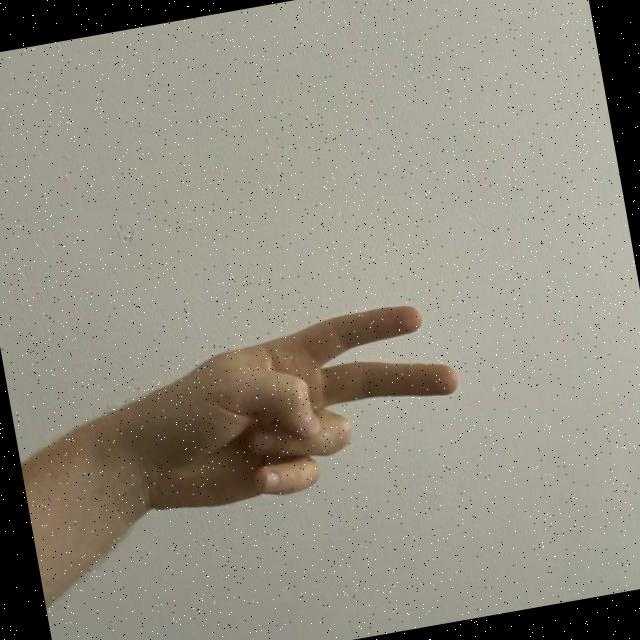scissors: (95, 288, 478, 528)
